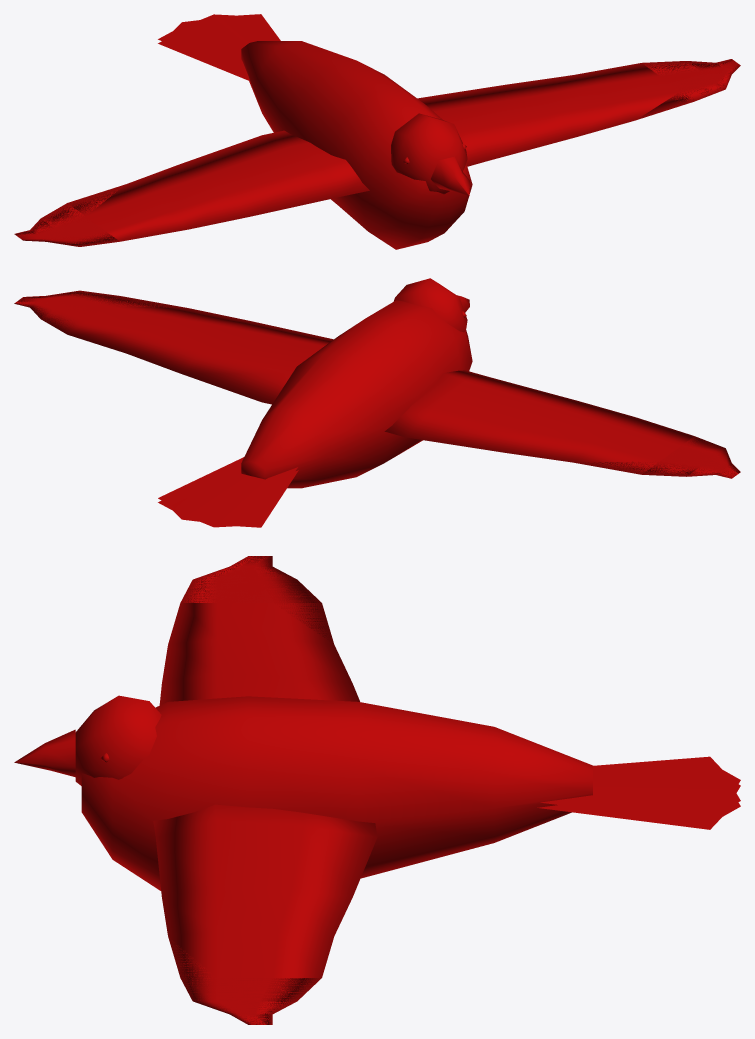
The model's file is woodpecker.glb.
The picture shows the model from 3 angles, top to bottom: view 1: azimuth 30°, elevation 25°; view 2: azimuth 150°, elevation 25°; view 3: azimuth 270°, elevation 25°; orthographic projection. The views are drawn at different scales.
Parts seen in each view (by area): view 1: wing, body; view 2: wing, body; view 3: body, wing.
Boxes of the visible parts, bbox=[...] form: wing: bbox=[14, 59, 740, 246]; body: bbox=[158, 14, 472, 249]; wing: bbox=[14, 290, 740, 478]; body: bbox=[158, 278, 472, 527]; body: bbox=[14, 695, 740, 890]; wing: bbox=[153, 556, 377, 1024].
Size of the model in its own units: 0.7031 by 0.1328 by 0.4609.
